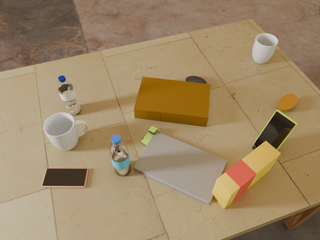book: (133, 132, 227, 205), (134, 77, 210, 127)
bottle: (58, 76, 81, 115), (110, 135, 131, 176)
box: (212, 141, 281, 209)
cup: (44, 113, 88, 150), (252, 33, 278, 64)
mouse: (278, 94, 297, 111)
phone: (253, 110, 298, 150), (42, 168, 88, 188)
toy_car: (141, 126, 159, 145)
